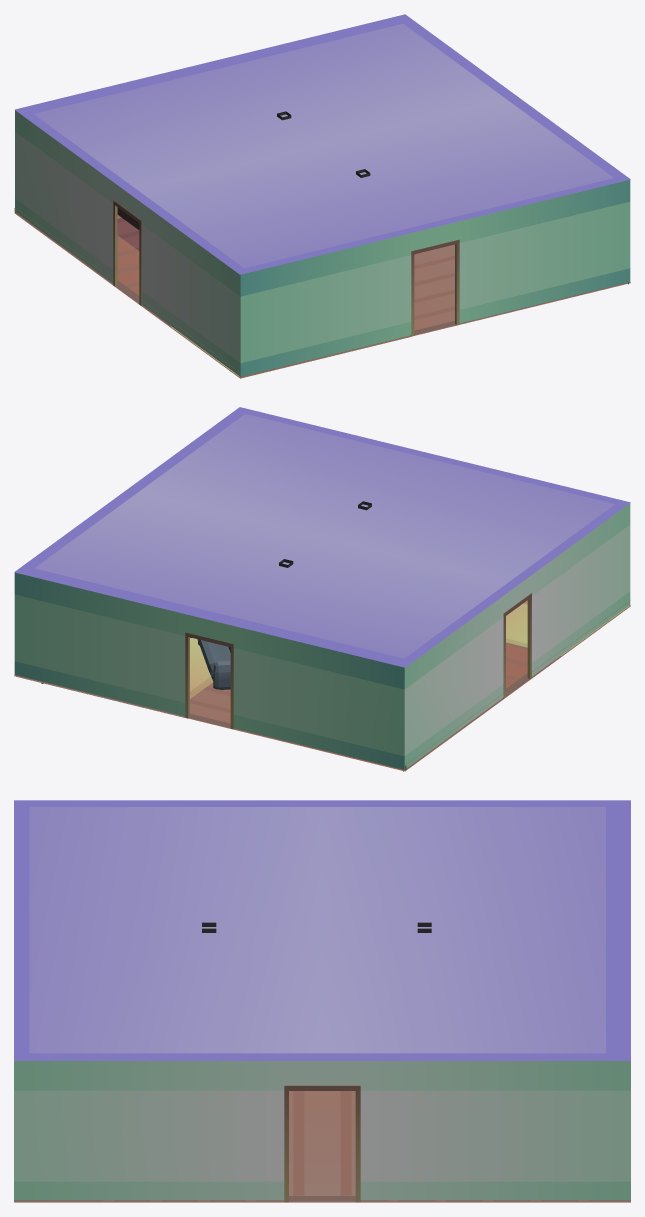
File: living-room.fbx
3 views of the same model, one above another, from view 1: azimuth 30°, elevation 25°; view 2: azimuth 150°, elevation 25°; view 3: azimuth 270°, elevation 25° (orthographic). The views are drawn at different scales.
Visible parts, largest first — view 1: living-room; view 2: living-room; view 3: living-room.
Boxes of the visible parts, x1,y1,x2,y2 form: living-room: (14,14,630,378); living-room: (14,407,630,771); living-room: (14,800,630,1202).
Bounding box in the file's own units: 12.02 × 3.24 × 12.
